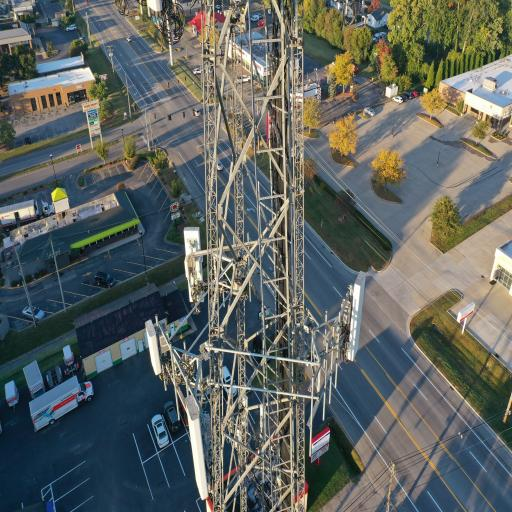supporting_tower: (137, 0, 366, 512)
